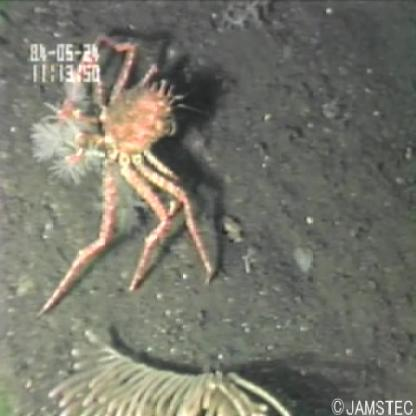Bio: (30, 27, 218, 316), (45, 324, 289, 416)
